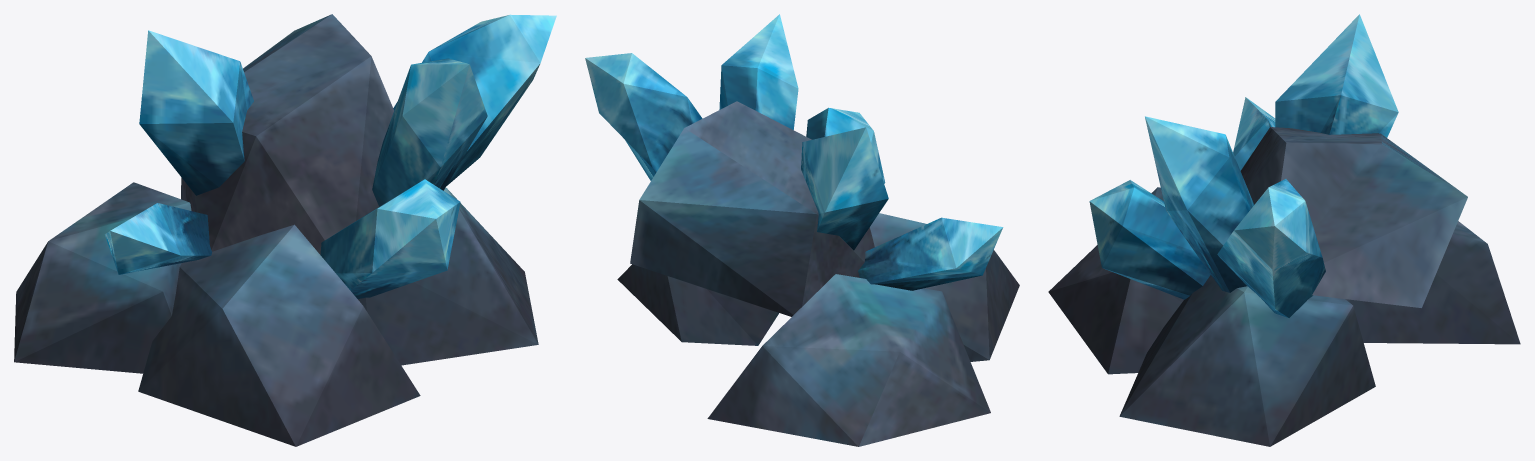
The model's file is mine_ember_ore04.fbx.
3 renders of one model, left to right at view 1: azimuth 30°, elevation 25°; view 2: azimuth 150°, elevation 25°; view 3: azimuth 270°, elevation 25°, orthographic. The views are drawn at different scales.
Parts seen in each view (by area): view 1: mine_ember_ore01.psd; view 2: mine_ember_ore01.psd; view 3: mine_ember_ore01.psd.
Part boxes in pixels (x1=…): mine_ember_ore01.psd: x1=14, y1=14, x2=556, y2=446; mine_ember_ore01.psd: x1=585, y1=14, x2=1019, y2=446; mine_ember_ore01.psd: x1=1048, y1=14, x2=1520, y2=446.
Bounding box in the file's own units: 1.85 × 1.07 × 1.56.
